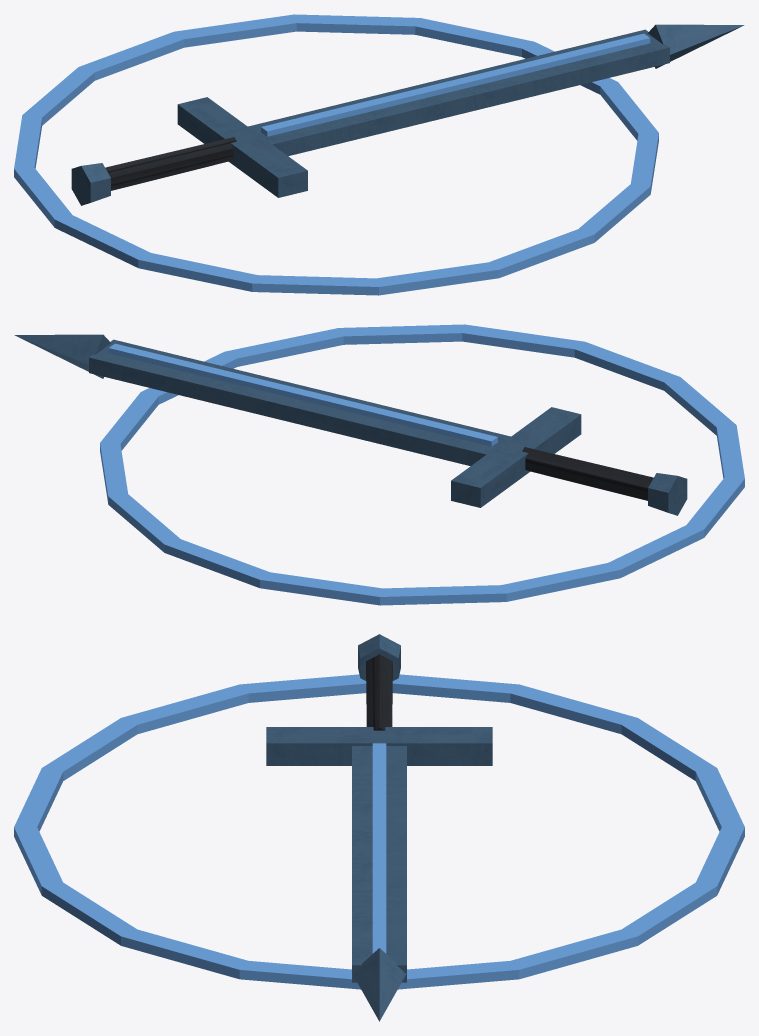
The model's file is loot_sword_g1.glb.
3 renders of one model, top to bottom at view 1: azimuth 30°, elevation 25°; view 2: azimuth 150°, elevation 25°; view 3: azimuth 270°, elevation 25°, orthographic. The views are drawn at different scales.
Parts seen in each view (by area): view 1: loot_sword_g1; view 2: loot_sword_g1; view 3: loot_sword_g1.
Boxes of the visible parts, x1=… form: loot_sword_g1: x1=14, y1=14, x2=744, y2=295; loot_sword_g1: x1=14, y1=324, x2=744, y2=605; loot_sword_g1: x1=14, y1=634, x2=744, y2=1021.
Size of the model in its own units: 1.62 by 0.1275 by 1.32.
Materials: 3 (3 with a texture image).
